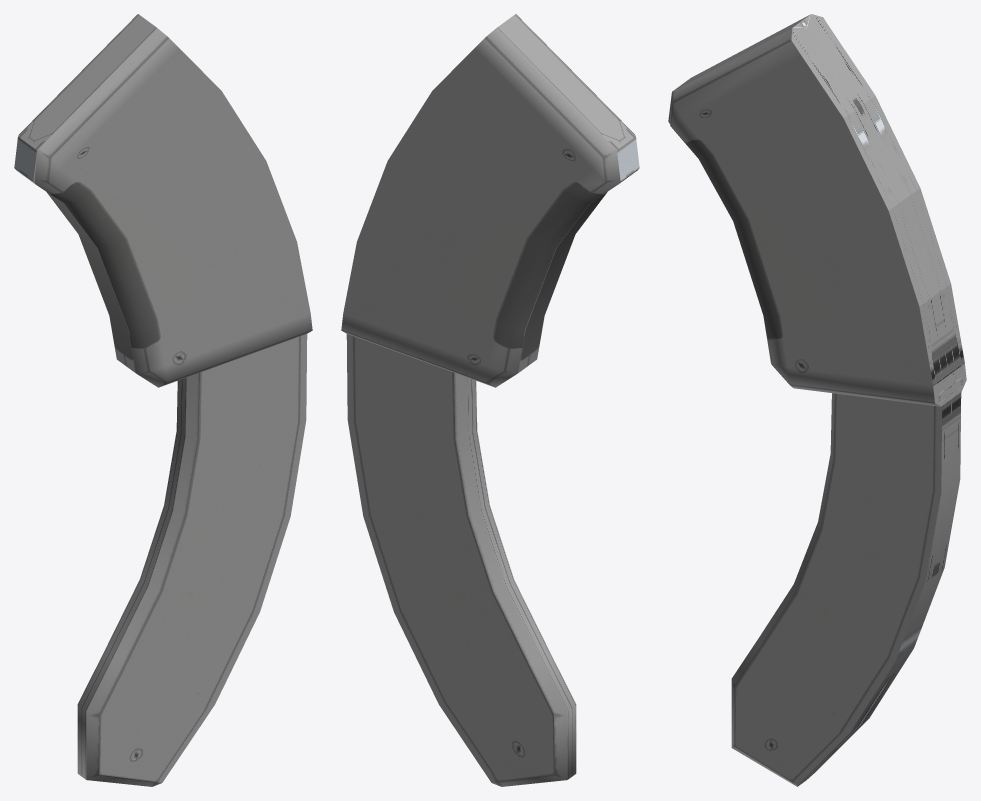
Rendered from SM_SPillarS04cc.fbx.
3 renders of one model, left to right at view 1: azimuth 30°, elevation 25°; view 2: azimuth 150°, elevation 25°; view 3: azimuth 330°, elevation 25°, orthographic.
Visible parts, largest first — view 1: SM_SPillarS04cc_LOD0; view 2: SM_SPillarS04cc_LOD0; view 3: SM_SPillarS04cc_LOD0.
Part boxes in pixels (x1,y1,x2,y2): SM_SPillarS04cc_LOD0: (14,14,312,786); SM_SPillarS04cc_LOD0: (341,14,639,786); SM_SPillarS04cc_LOD0: (668,14,966,786).
Bounding box in the file's own units: 125 × 25 × 332.
Materials: 1 (1 with a texture image).
